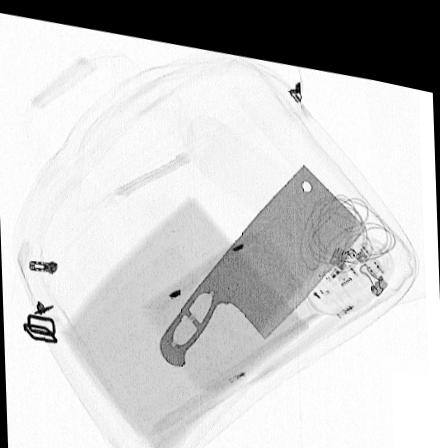Knife: (156, 148, 369, 359)
